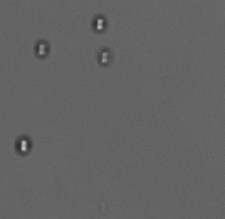Living Cell: (14, 135, 34, 155), (35, 39, 51, 60), (97, 47, 112, 66), (92, 15, 107, 33)
